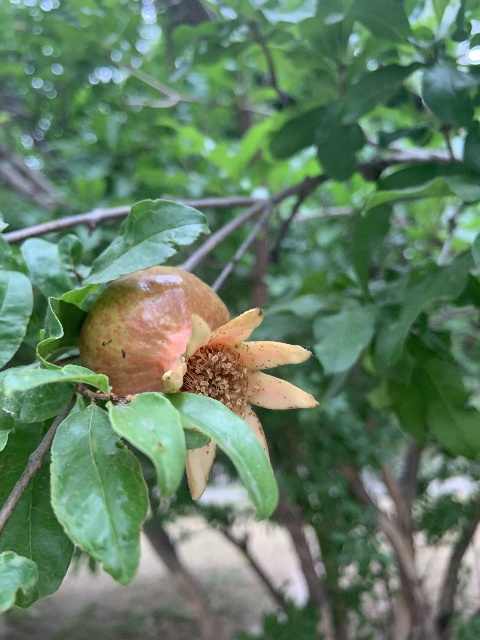early-fruit: (79, 266, 319, 502)
